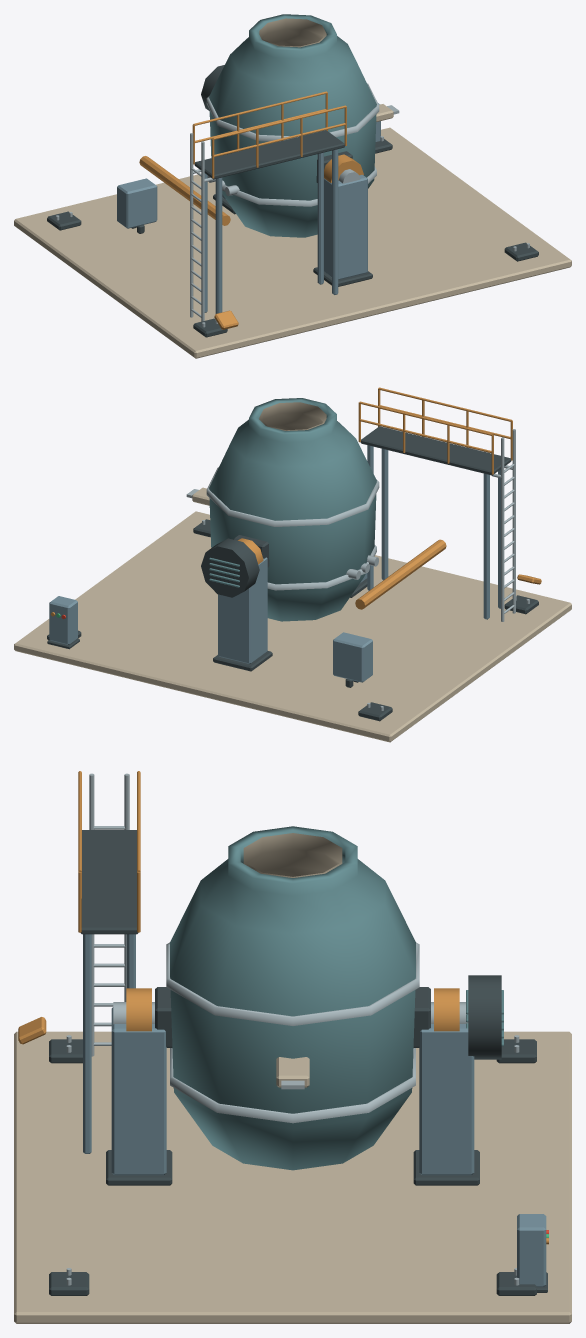
Rendered from STS-PLATE-03-lod2.glb.
3 renders of one model, top to bottom at view 1: azimuth 30°, elevation 25°; view 2: azimuth 150°, elevation 25°; view 3: azimuth 270°, elevation 25°, orthographic. The views are drawn at different scales.
Parts seen in each view (by area): view 1: foundation, refractory_vessel, far_pedestal, aod_service_deck, gas_valve_bank, refractory_lining, aod_service_support_-1_1, argon_manifold, aod_service_support_1_1, vessel_hoop_0.65, aod_service_support_1_-1, aod_service_ladder_rail_1 (+4 smaller); view 2: foundation, refractory_vessel, near_pedestal, aod_service_deck, tilt_gearbox, gas_valve_bank, refractory_lining, vessel_hoop_0.65, argon_manifold, control_cabinet, aod_service_support_1_1, aod_service_support_-1_-1 (+4 smaller); view 3: foundation, refractory_vessel, far_pedestal, near_pedestal, aod_service_deck, refractory_lining, vessel_hoop_0.65, tilt_gearbox, vessel_hoop_-0.7, control_cabinet, aod_service_support_1_1, far_bearing (+11 smaller).
Boxes of the visible parts, box(x1,y1,x2,y2) form: foundation: box(14, 127, 571, 358); refractory_vessel: box(209, 14, 376, 237); far_pedestal: box(324, 174, 367, 279); aod_service_deck: box(194, 130, 344, 179); gas_valve_bank: box(117, 178, 157, 228); refractory_lining: box(259, 18, 326, 47); aod_service_support_-1_1: box(215, 177, 222, 313); argon_manifold: box(139, 156, 230, 225); aod_service_support_1_1: box(332, 149, 338, 294); vessel_hoop_0.65: box(206, 83, 379, 141); aod_service_support_1_-1: box(317, 152, 323, 284); aod_service_ladder_rail_1: box(201, 141, 204, 321); foundation: box(14, 511, 571, 742); refractory_vessel: box(209, 398, 376, 621); near_pedestal: box(218, 557, 267, 663); aod_service_deck: box(360, 426, 511, 475); tilt_gearbox: box(201, 538, 259, 597); gas_valve_bank: box(333, 632, 372, 682); refractory_lining: box(259, 402, 326, 430); vessel_hoop_0.65: box(206, 467, 379, 526); argon_manifold: box(355, 539, 446, 609); control_cabinet: box(49, 596, 77, 644); aod_service_support_1_1: box(381, 448, 388, 580); aod_service_support_-1_-1: box(483, 473, 489, 619); foundation: box(14, 1031, 571, 1323); refractory_vessel: box(170, 826, 415, 1170); far_pedestal: box(111, 1007, 166, 1175); near_pedestal: box(419, 1024, 474, 1175); aod_service_deck: box(80, 830, 138, 934); refractory_lining: box(243, 833, 342, 877); vessel_hoop_0.65: box(166, 942, 419, 1025); tilt_gearbox: box(468, 975, 501, 1059); vessel_hoop_-0.7: box(170, 1048, 415, 1123); control_cabinet: box(517, 1214, 546, 1286); aod_service_support_1_1: box(83, 934, 91, 1153); far_bearing: box(126, 988, 151, 1031).
Bounding box in the file's own units: 9.1 × 4.97 × 7.6.
